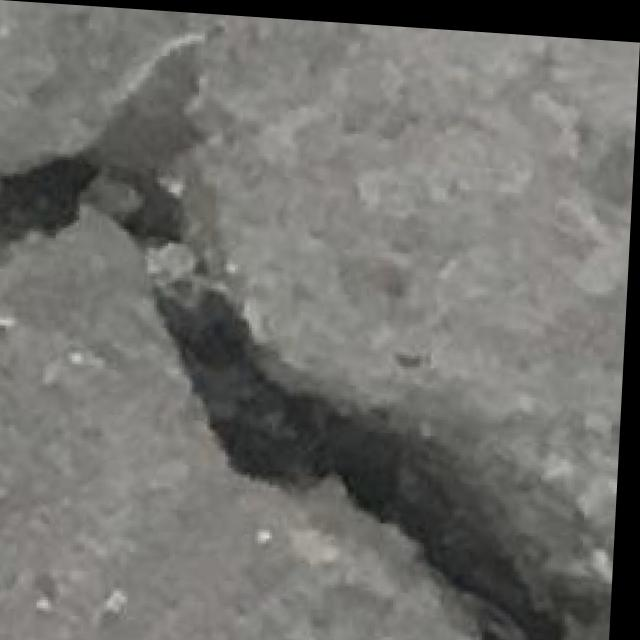Crack: (0, 28, 639, 640)
